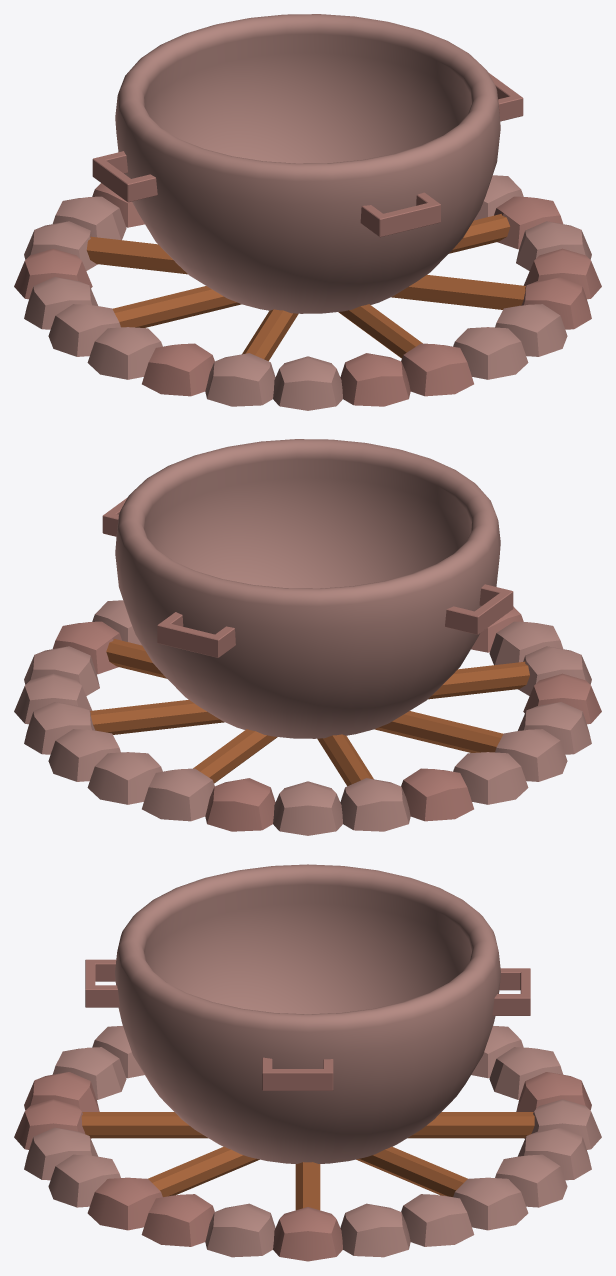
Rendered from Closed.Boiler.fbx.
The picture shows the model from 3 angles, top to bottom: view 1: azimuth 30°, elevation 25°; view 2: azimuth 150°, elevation 25°; view 3: azimuth 270°, elevation 25°; orthographic projection.
Parts seen in each view (by area): view 1: Closed.Boiler; view 2: Closed.Boiler; view 3: Closed.Boiler.
Part boxes in pixels (x1,y1,x2,y2): Closed.Boiler: (14,14,601,410); Closed.Boiler: (14,439,601,835); Closed.Boiler: (14,864,601,1261).
Size of the model in its own units: 6.06 by 2.24 by 6.06.
